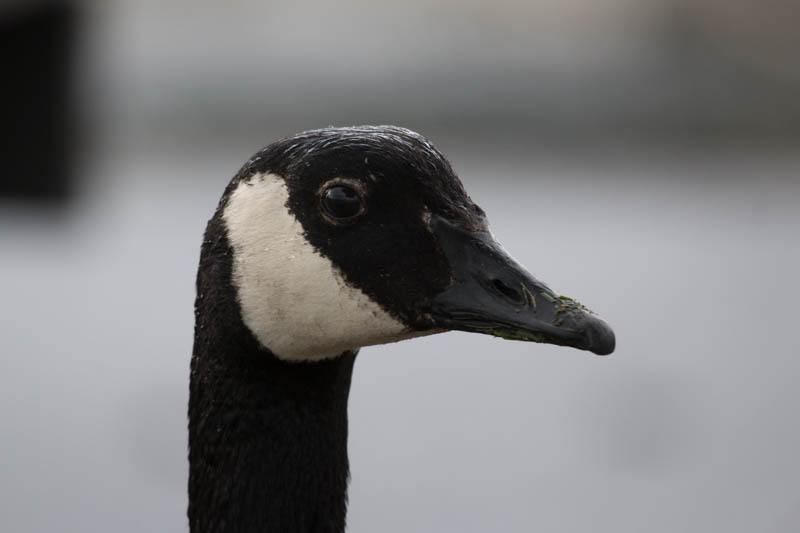goose-head: (195, 124, 615, 363)
